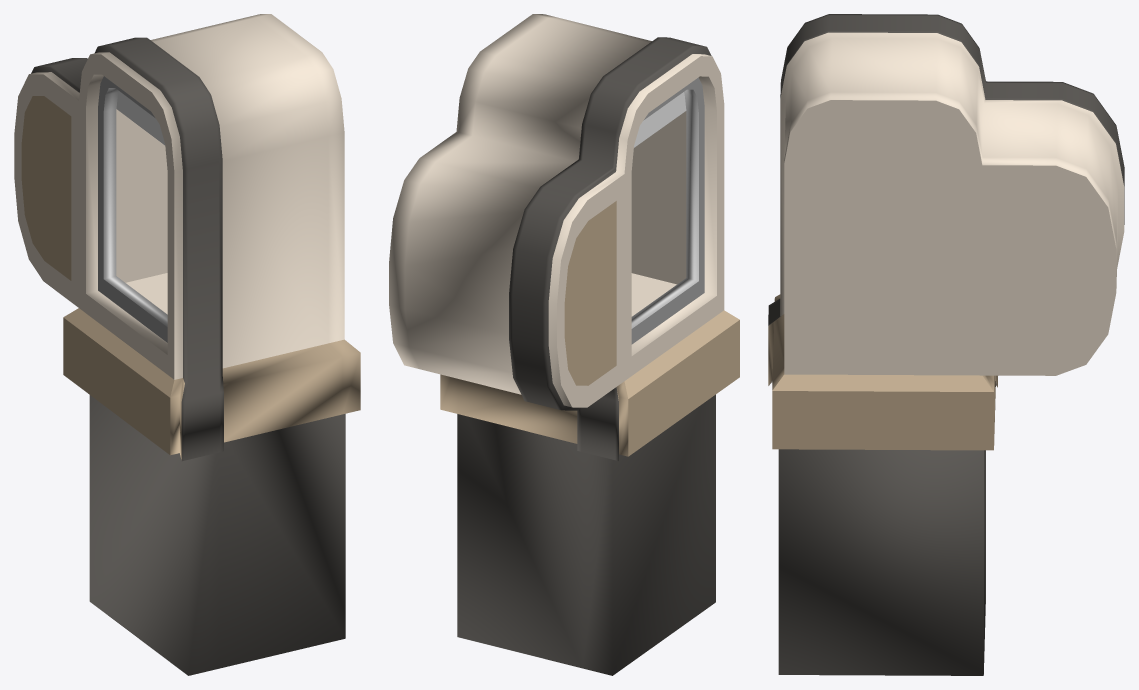
Rendered from Crank_Cage.glb.
3 renders of one model, left to right at view 1: azimuth 30°, elevation 25°; view 2: azimuth 150°, elevation 25°; view 3: azimuth 270°, elevation 25°, orthographic.
Visible parts, largest first — view 1: CrankCage; view 2: CrankCage; view 3: CrankCage.
Part boxes in pixels (x1,y1,x2,y2): CrankCage: (14,14,360,675); CrankCage: (389,14,739,675); CrankCage: (768,14,1124,675).
Bounding box in the file's own units: 1.06 × 3.03 × 1.68.
1 material, 1 textured.
